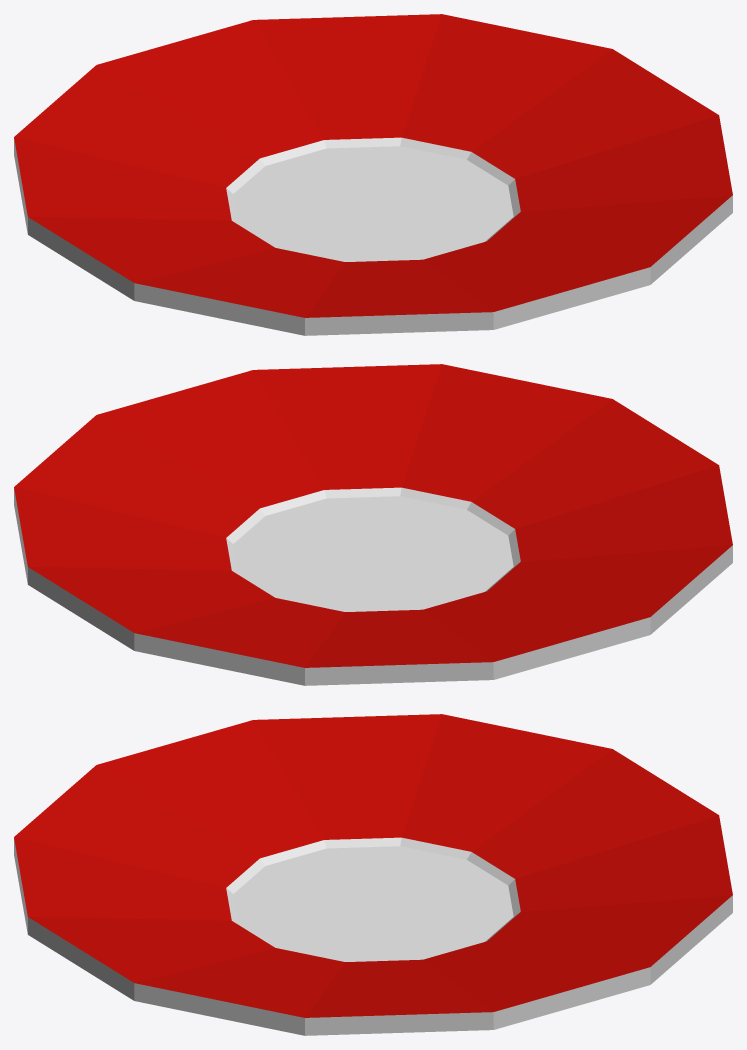
File: C_Plate_Medium_1.fbx
3 views of the same model, one above another, from view 1: azimuth 30°, elevation 25°; view 2: azimuth 150°, elevation 25°; view 3: azimuth 270°, elevation 25° (orthographic).
Parts seen in each view (by area): view 1: C_Plate_Medium_1; view 2: C_Plate_Medium_1; view 3: C_Plate_Medium_1.
Boxes of the visible parts, x1=… form: C_Plate_Medium_1: x1=14, y1=14, x2=732, y2=335; C_Plate_Medium_1: x1=14, y1=364, x2=732, y2=685; C_Plate_Medium_1: x1=14, y1=714, x2=732, y2=1035.
Size of the model in its own units: 112 by 112 by 10.75.
